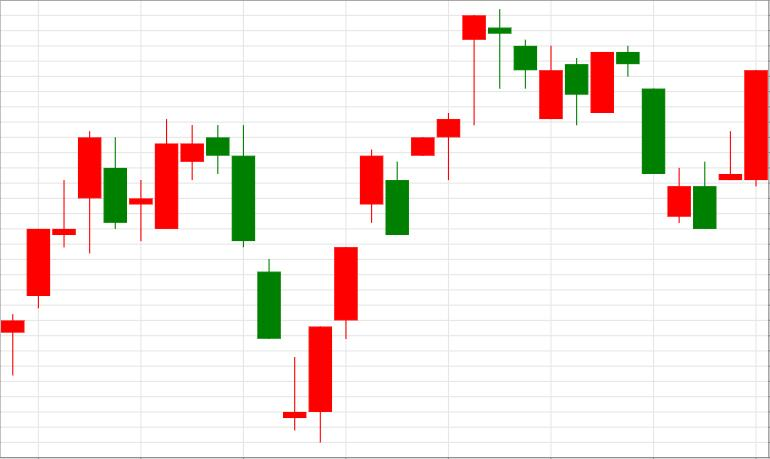hanging_man_fall: (283, 14, 486, 444)
three_white_soldiers_rise: (207, 124, 383, 444)
